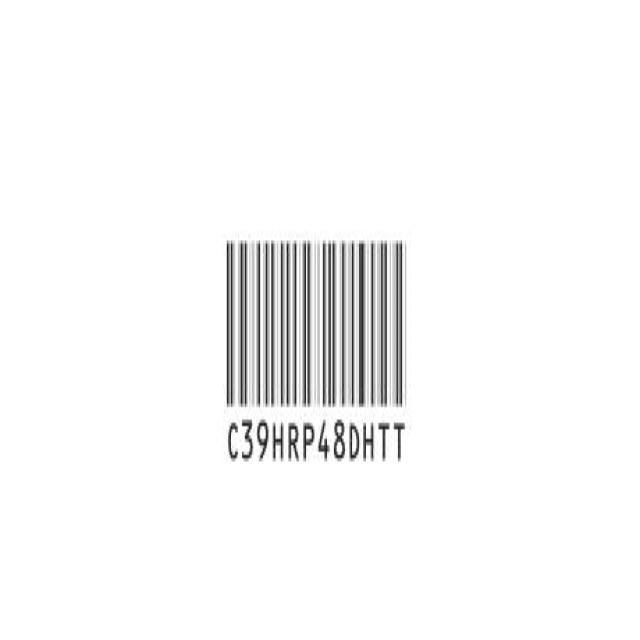Barkod: (221, 228, 411, 475)
